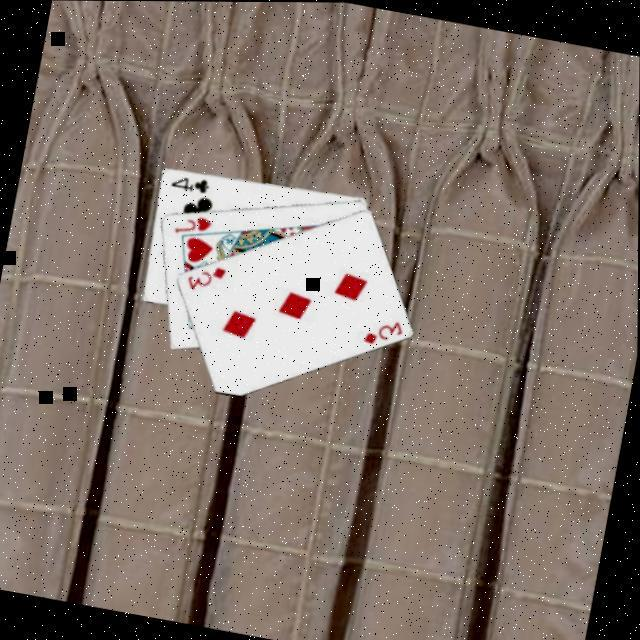3D: (184, 256, 232, 298), (361, 310, 408, 350)
4C: (168, 169, 214, 196)
JH: (172, 208, 216, 240)
